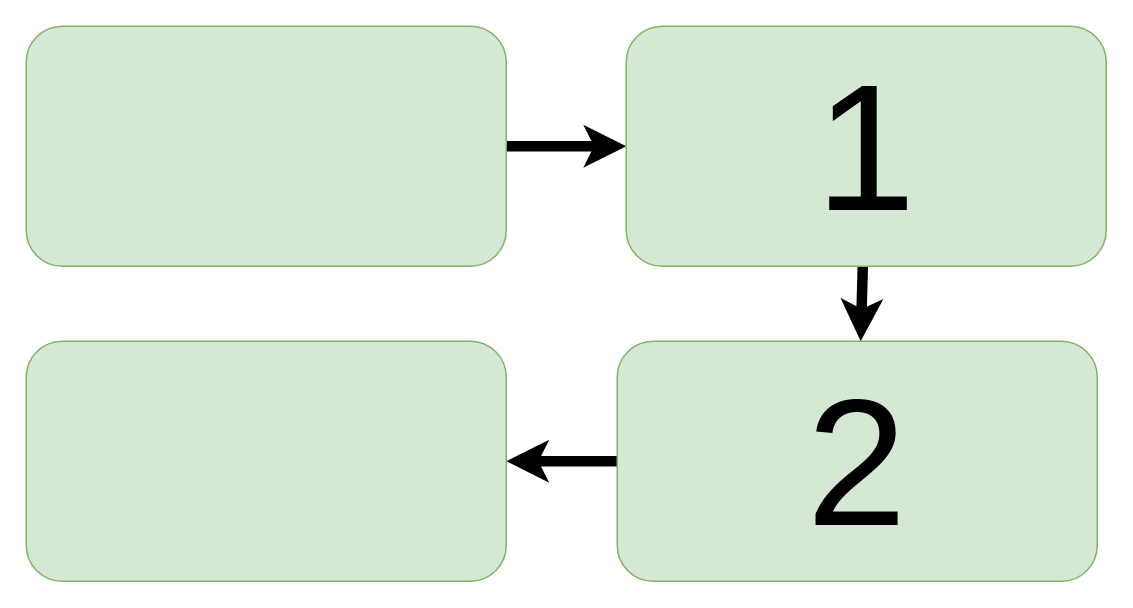
Some shapes in this 1133 by 608 pixel diagram are drawn without their labels. Here are the shapes that lost their labels. From the top down, the centre of each, then its label:
the point at 265,145: Start
the point at 265,460: End
